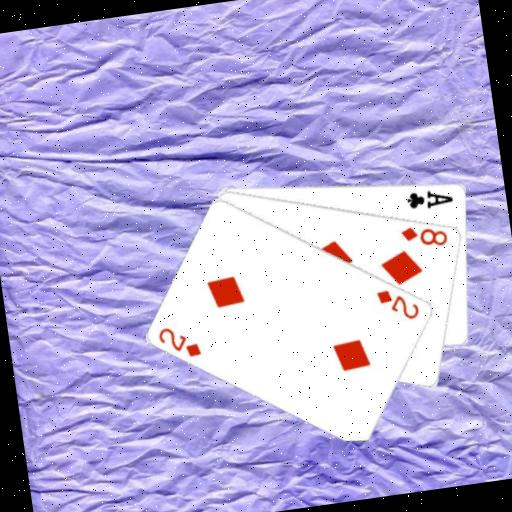2D: (373, 283, 423, 326), (154, 320, 204, 363)
8D: (397, 219, 451, 253)
AC: (403, 183, 456, 213)
